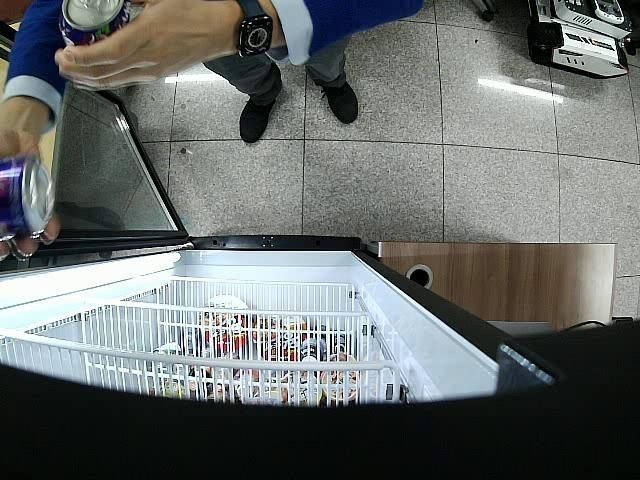14_welchsGrape: (2, 158, 52, 242), (60, 0, 129, 44)
